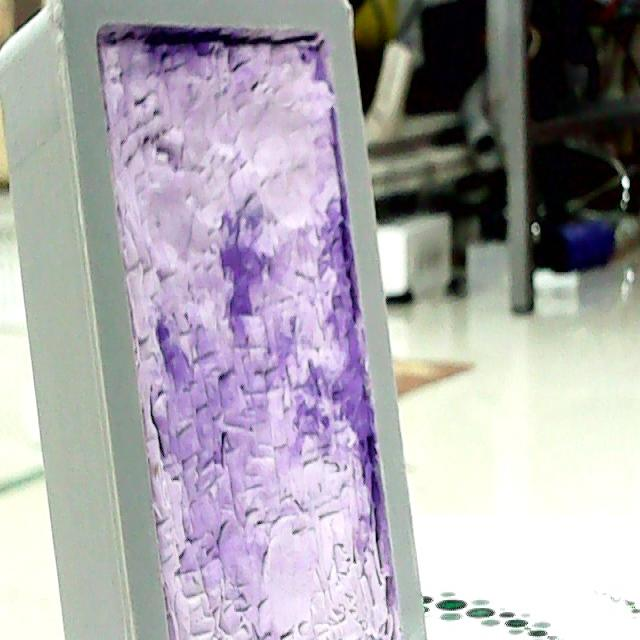block: (1, 1, 428, 634)
